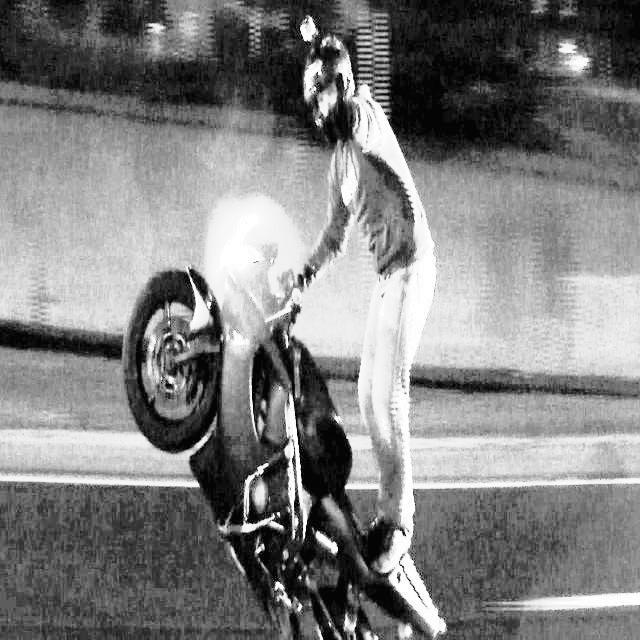Motorcycle: (76, 215, 439, 640)
